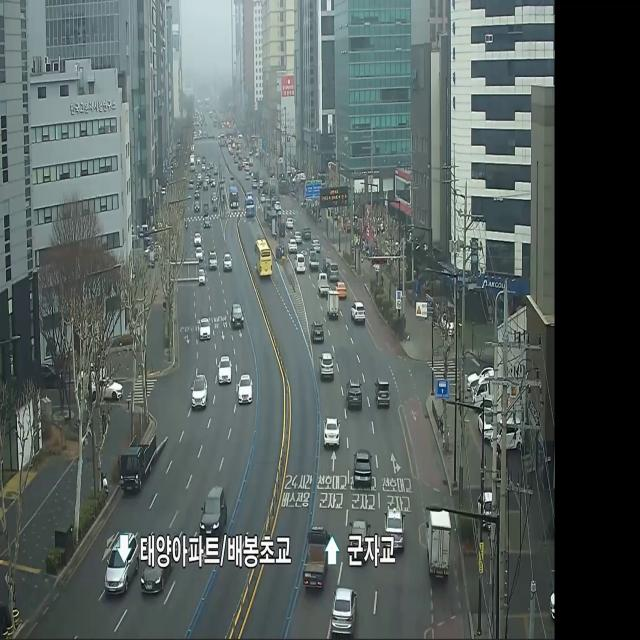bus: (183, 213, 190, 232)
car: (252, 242, 279, 282)
motorcycle: (100, 534, 136, 604), (140, 541, 172, 598), (201, 485, 232, 542), (332, 578, 358, 638), (382, 505, 408, 556), (188, 376, 210, 416), (353, 445, 373, 489), (348, 513, 370, 552), (346, 378, 364, 420), (238, 371, 256, 411), (321, 414, 341, 450), (373, 374, 392, 409), (228, 298, 247, 332), (319, 350, 335, 384), (348, 302, 368, 327), (310, 322, 328, 348), (219, 357, 233, 390), (336, 280, 352, 304), (198, 319, 212, 344), (207, 249, 220, 274), (289, 235, 302, 259), (223, 254, 236, 274), (230, 184, 240, 210), (192, 246, 204, 266), (194, 224, 204, 247), (196, 264, 207, 284), (296, 253, 306, 274), (301, 225, 310, 248), (312, 238, 325, 252), (284, 213, 294, 229), (212, 194, 218, 216), (202, 202, 212, 214), (204, 218, 212, 228), (194, 200, 199, 212)
truck: (117, 434, 157, 496), (303, 516, 331, 588), (424, 509, 452, 576), (315, 267, 332, 297), (327, 288, 341, 322), (244, 190, 255, 220), (309, 248, 321, 270)
